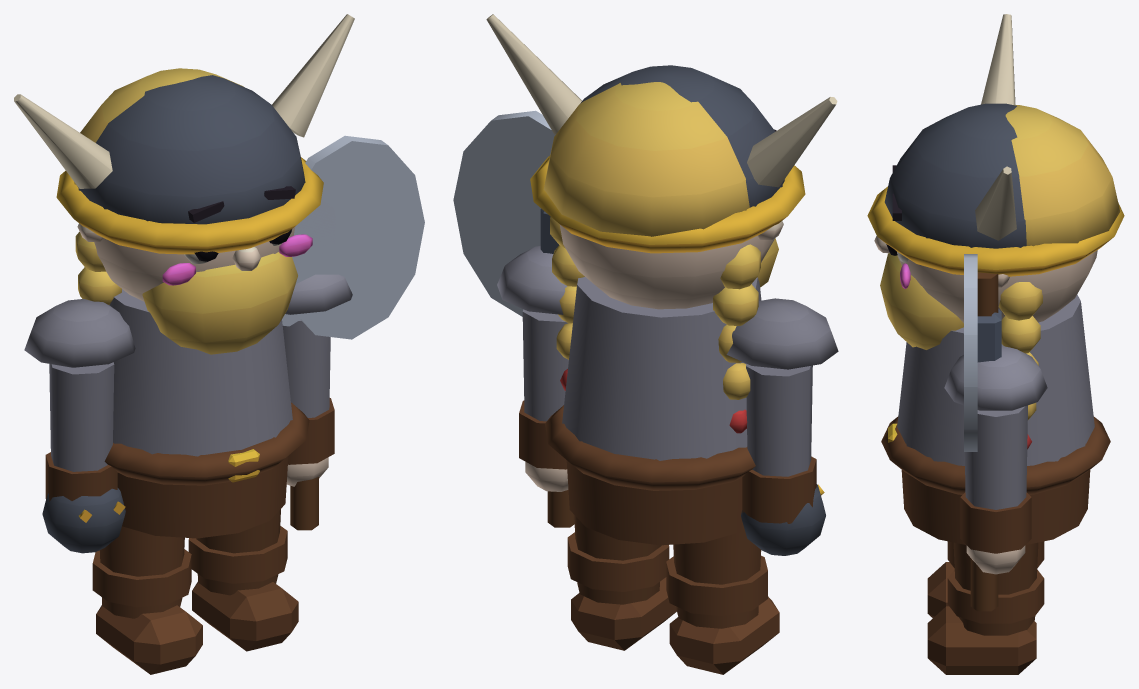
Rendered from hero_torvald.glb.
3 renders of one model, left to right at view 1: azimuth 30°, elevation 25°; view 2: azimuth 150°, elevation 25°; view 3: azimuth 270°, elevation 25°, orthographic. The views are drawn at different scales.
Visible parts, largest first — view 1: body_t0_palette, armr_t0_palette, arml_t0_palette, legl_t0_palette, legr_t0_palette; view 2: body_t0_palette, armr_t0_palette, arml_t0_palette, legl_t0_palette, legr_t0_palette; view 3: body_t0_palette, armr_t0_palette, legr_t0_palette, legl_t0_palette.
Boxes of the visible parts, x1,y1,x2,y2 form: body_t0_palette: (14,14,354,538); armr_t0_palette: (282,135,424,530); arml_t0_palette: (24,299,135,553); legl_t0_palette: (92,526,202,674); legr_t0_palette: (188,509,298,651); body_t0_palette: (486,14,837,545); armr_t0_palette: (453,110,574,527); arml_t0_palette: (726,298,838,555); legl_t0_palette: (666,521,779,674); legr_t0_palette: (567,515,676,650); body_t0_palette: (867,14,1124,544); armr_t0_palette: (944,254,1047,611); legr_t0_palette: (927,542,1044,674); legl_t0_palette: (927,541,1044,617).
Bounding box in the file's own units: 0.372 × 0.5326 × 0.224.
